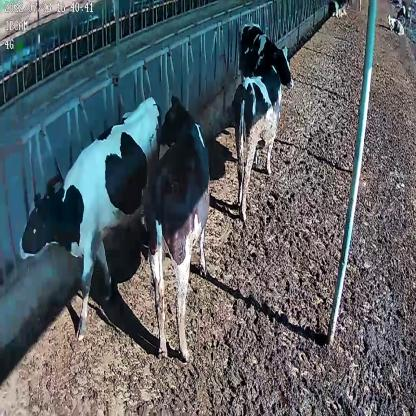cow: (20, 94, 163, 342), (144, 93, 211, 358), (234, 58, 282, 219), (239, 18, 295, 93), (387, 11, 405, 38)
